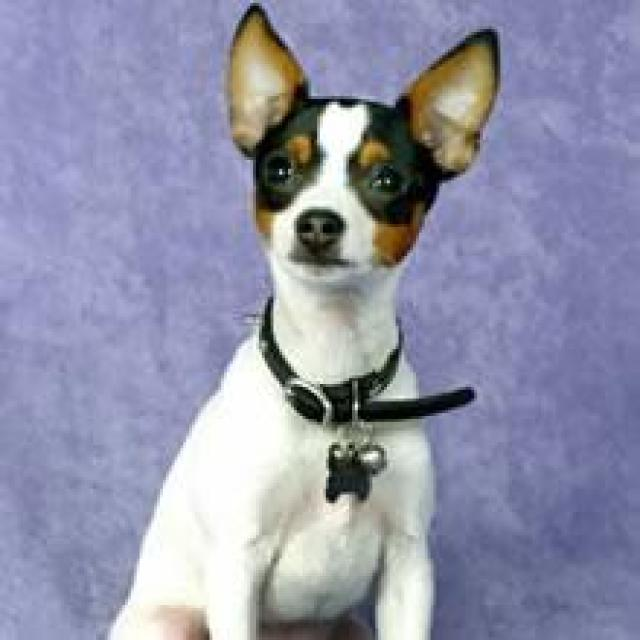toy_terrier: (99, 3, 524, 637)
